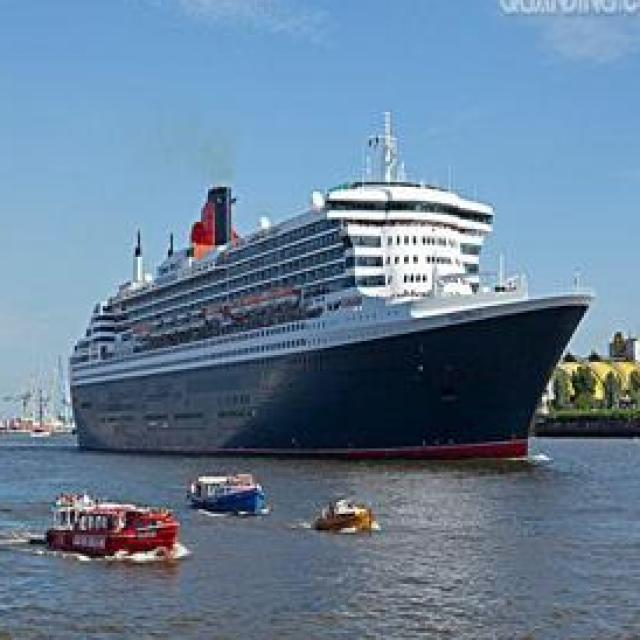houseboat: (43, 485, 185, 558), (182, 464, 271, 512), (316, 490, 379, 541)
passenger ship: (60, 98, 590, 463)
